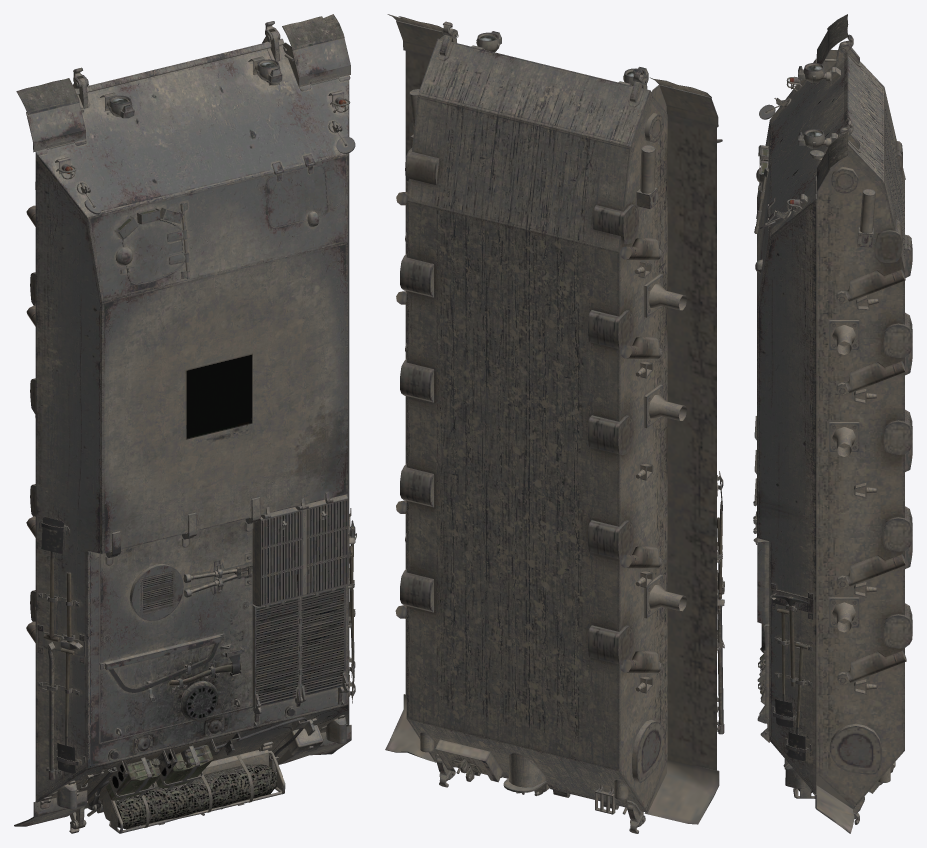
The model's file is Hull.glb.
3 views of the same model, side by side, from view 1: azimuth 30°, elevation 25°; view 2: azimuth 150°, elevation 25°; view 3: azimuth 270°, elevation 25° (orthographic). The views are drawn at different scales.
Visible parts, largest first — view 1: set_0_group_0; view 2: set_0_group_0; view 3: set_0_group_0.
Boxes of the visible parts, x1,y1,x2,y2 form: set_0_group_0: (14,14,356,833); set_0_group_0: (385,14,724,833); set_0_group_0: (753,14,912,833).
Size of the model in its own units: 2.98 by 6.89 by 1.41.
Materials: 1 (1 with a texture image).
